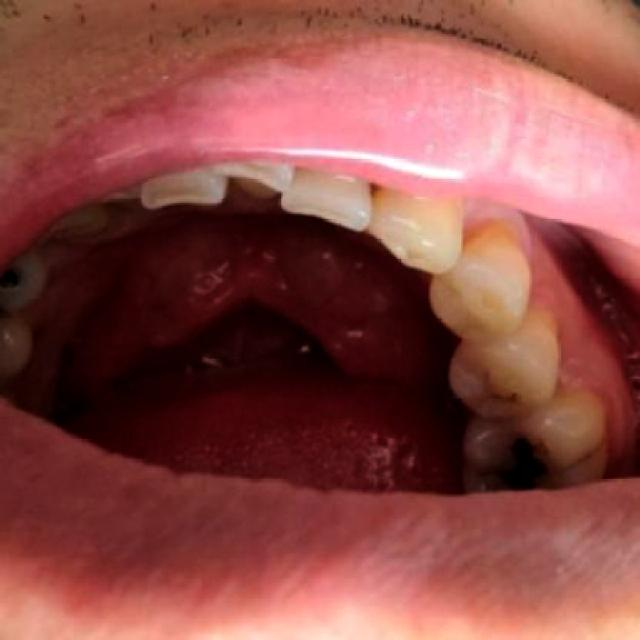Plaque: (475, 362, 526, 412), (548, 445, 608, 477)
